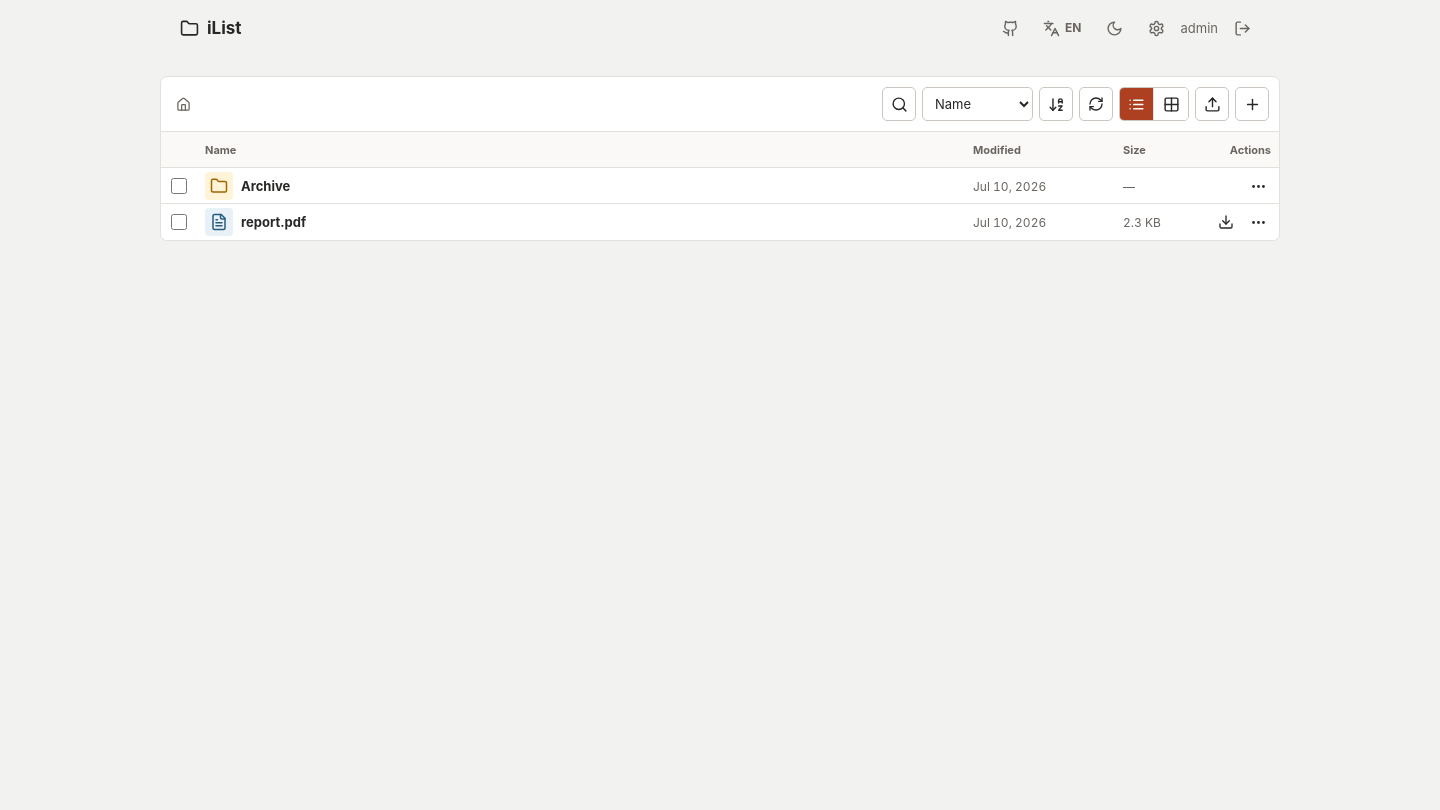
Test: explorer operations › uses an application dialog instead of window.confirm for delete
Step 1. Click the button named "Actions for report.pdf" → (1258, 222), box [1243, 207, 1273, 237]
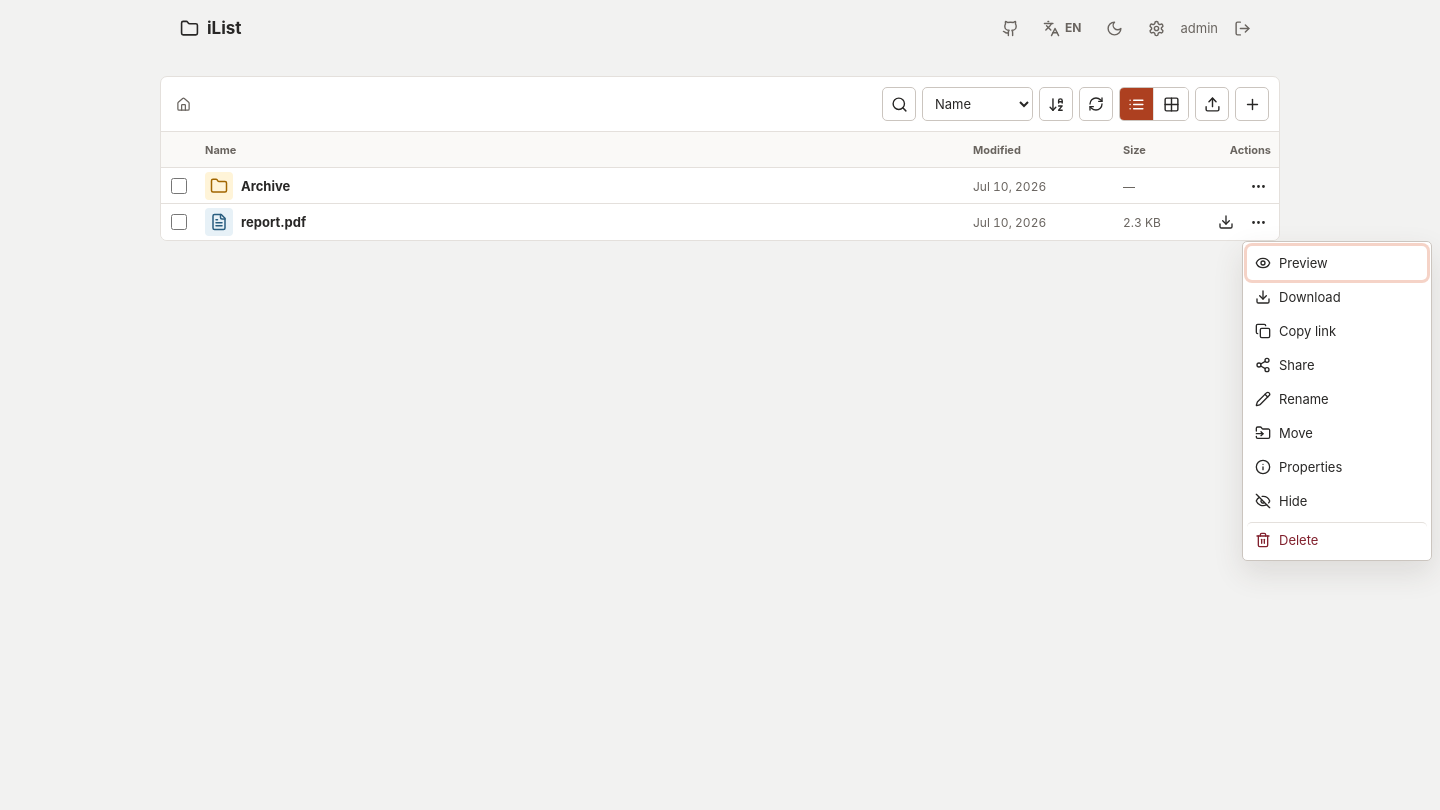
Step 2. Click the menu item "Delete" → (1337, 539), box [1247, 522, 1427, 556]
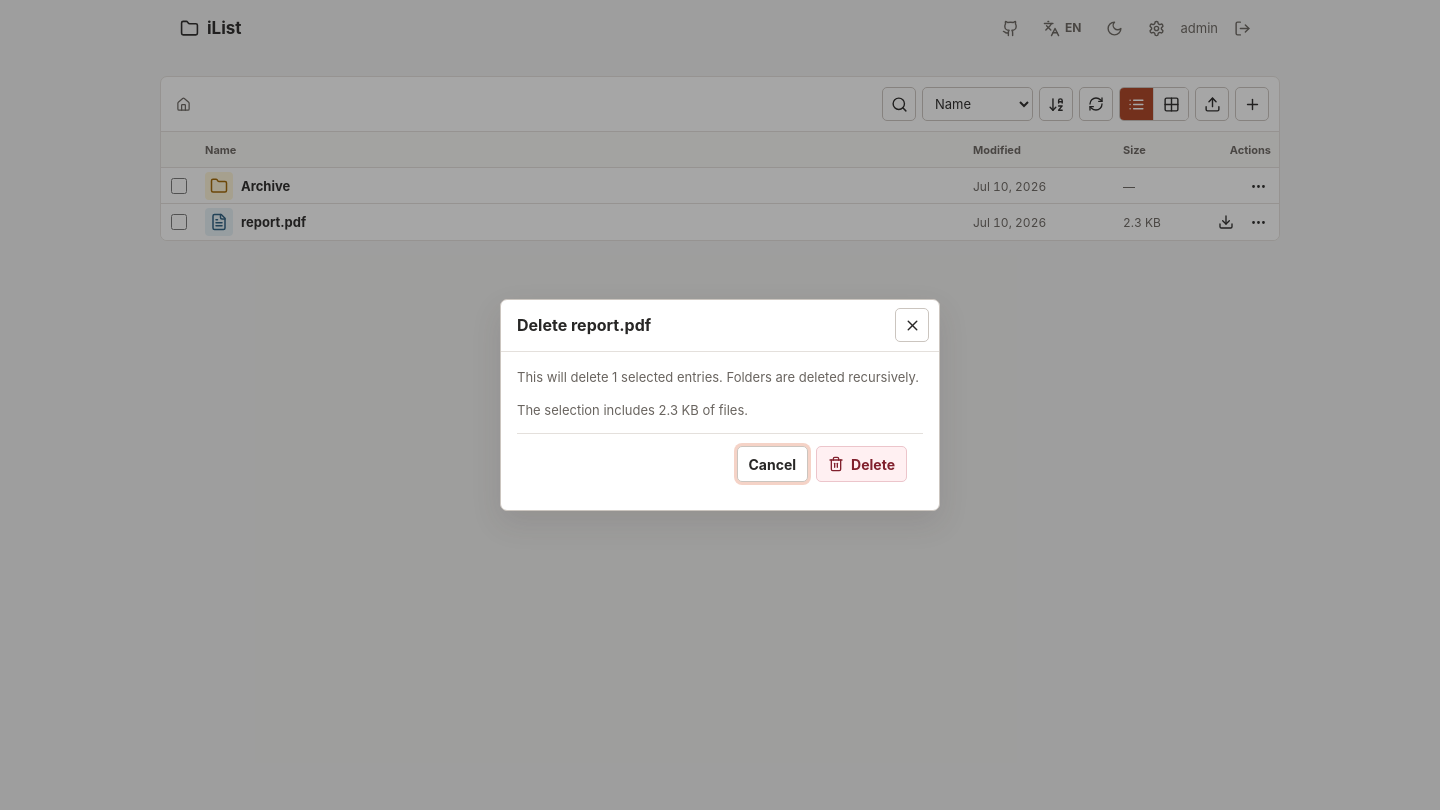
Result: the dialog "Delete report.pdf" is shown at [500, 299, 940, 511]
